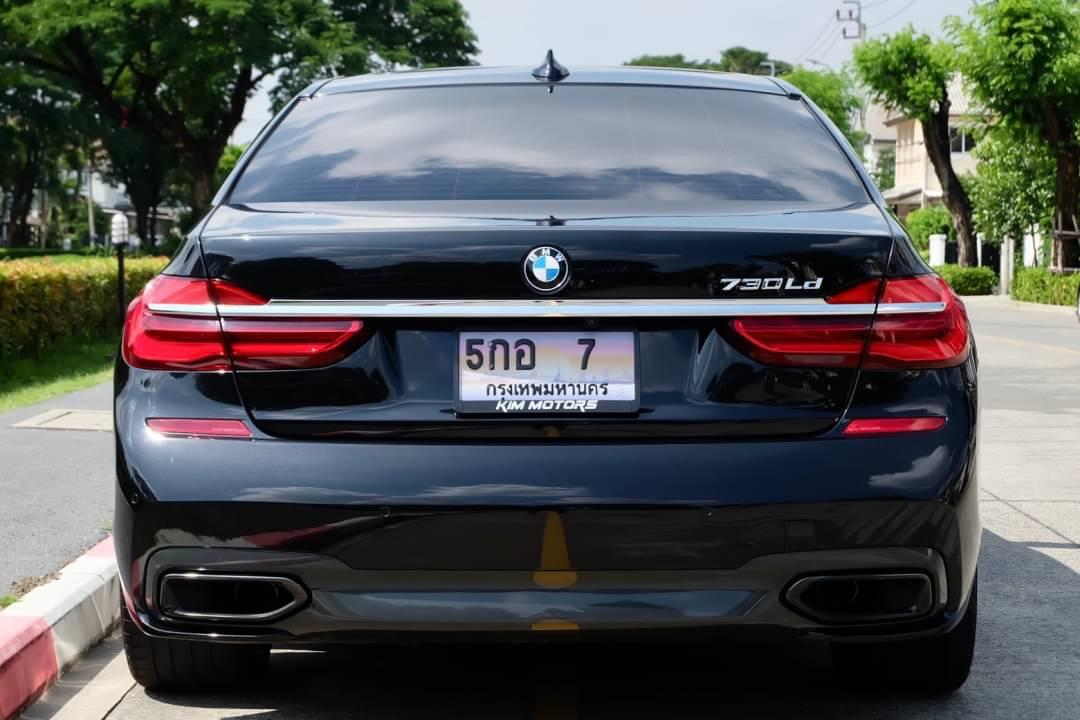license-plate: (454, 323, 641, 414)
